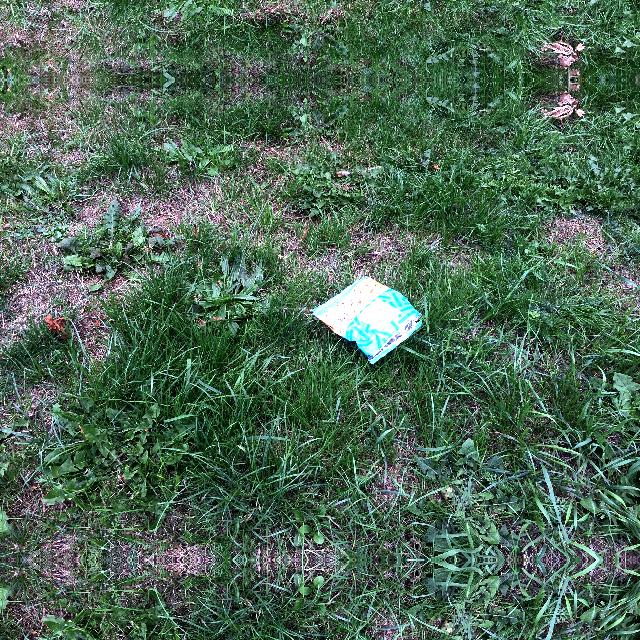Plastic: (307, 272, 428, 368)
